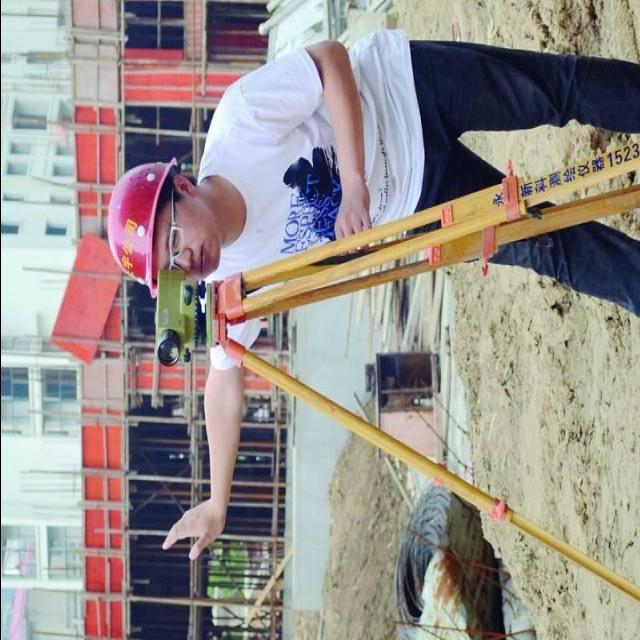helmet: (98, 139, 176, 329)
